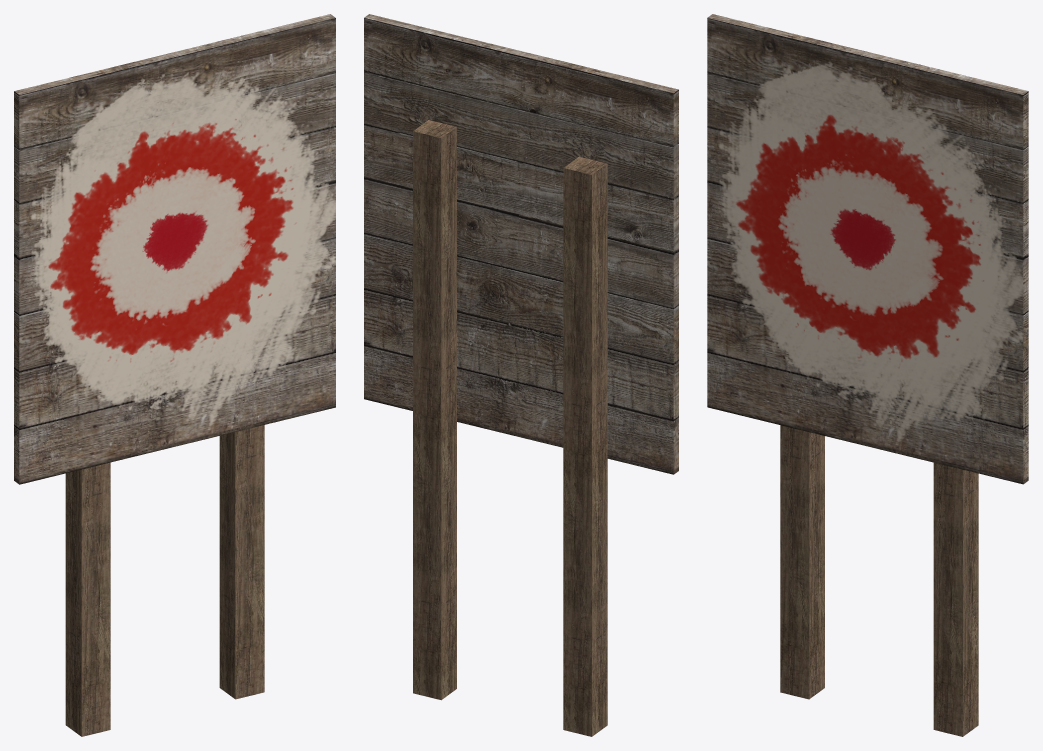
File: mm_target.FBX
The picture shows the model from 3 angles, left to right: view 1: azimuth 30°, elevation 25°; view 2: azimuth 150°, elevation 25°; view 3: azimuth 330°, elevation 25°; orthographic projection. The views are drawn at different scales.
Parts seen in each view (by area): view 1: Box001, Box003, Box004; view 2: Box001, Box004, Box003; view 3: Box001, Box003, Box004.
Part boxes in pixels (x1,y1,x2,y2): Box001: [14, 14, 335, 484]; Box003: [219, 425, 264, 699]; Box004: [65, 462, 110, 736]; Box001: [364, 14, 678, 474]; Box004: [563, 156, 607, 736]; Box003: [413, 120, 456, 700]; Box001: [707, 14, 1028, 484]; Box003: [933, 462, 978, 736]; Box004: [780, 425, 824, 699].
Bounding box in the file's own units: 85 × 170 × 9.93.
3 materials, 3 textured.
